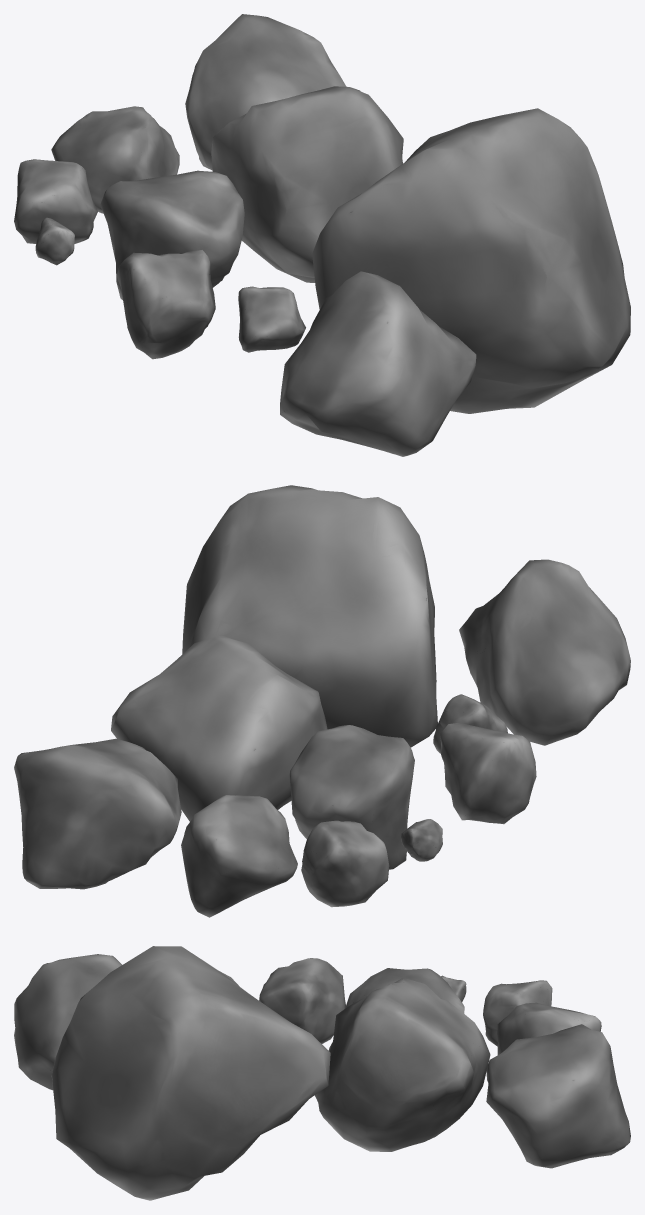
File: RockCollection.fbx
3 views of the same model, one above another, from view 1: azimuth 30°, elevation 25°; view 2: azimuth 150°, elevation 25°; view 3: azimuth 270°, elevation 25° (orthographic). The views are drawn at different scales.
Parts seen in each view (by area): view 1: RockCollection; view 2: RockCollection; view 3: RockCollection.
Boxes of the visible parts, x1,y1,x2,y2 form: RockCollection: (14,14,630,456); RockCollection: (14,485,630,917); RockCollection: (14,946,630,1200).
Bounding box in the file's own units: 128 × 82.21 × 202.
